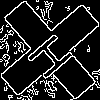H: (25, 25, 83, 82)
